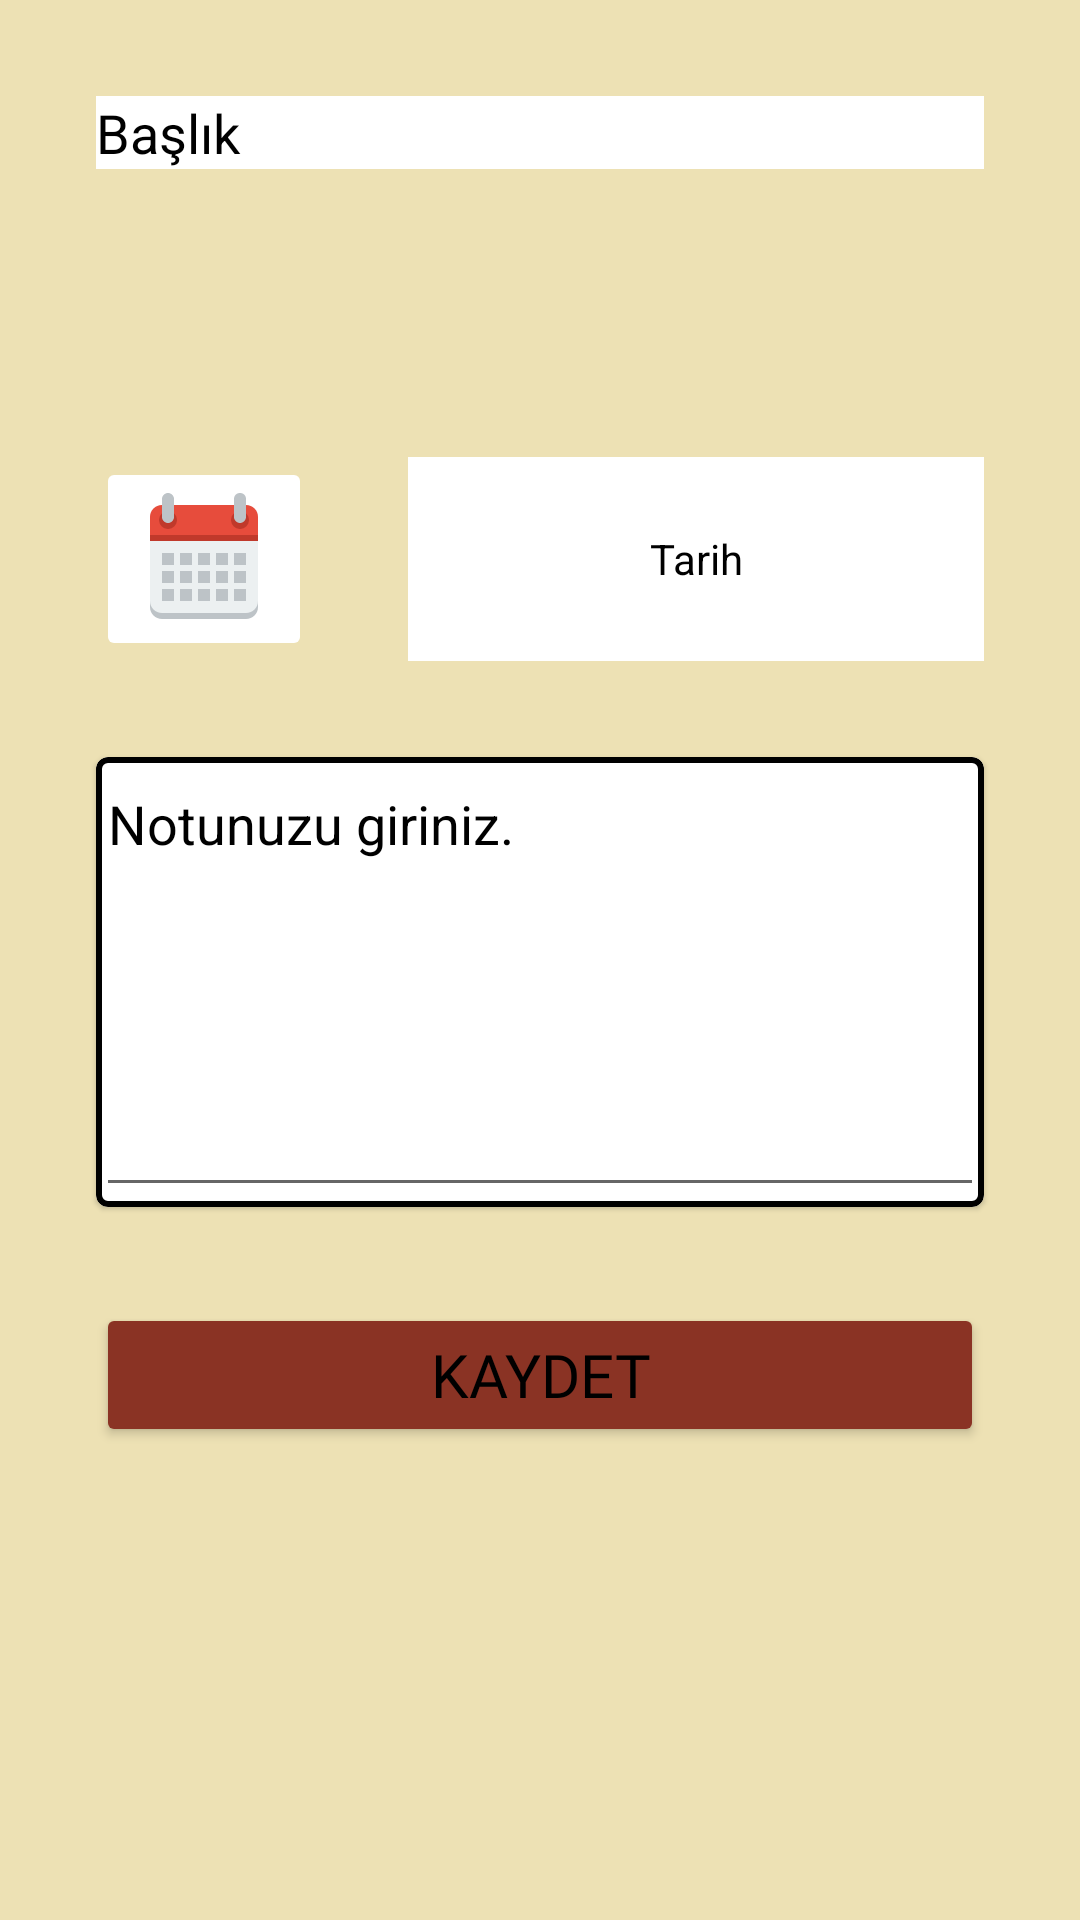

Where icons sit on this 1080×1920 app screen, as (x1, y1, x2, y2):
Select date: (108, 475, 300, 643)
